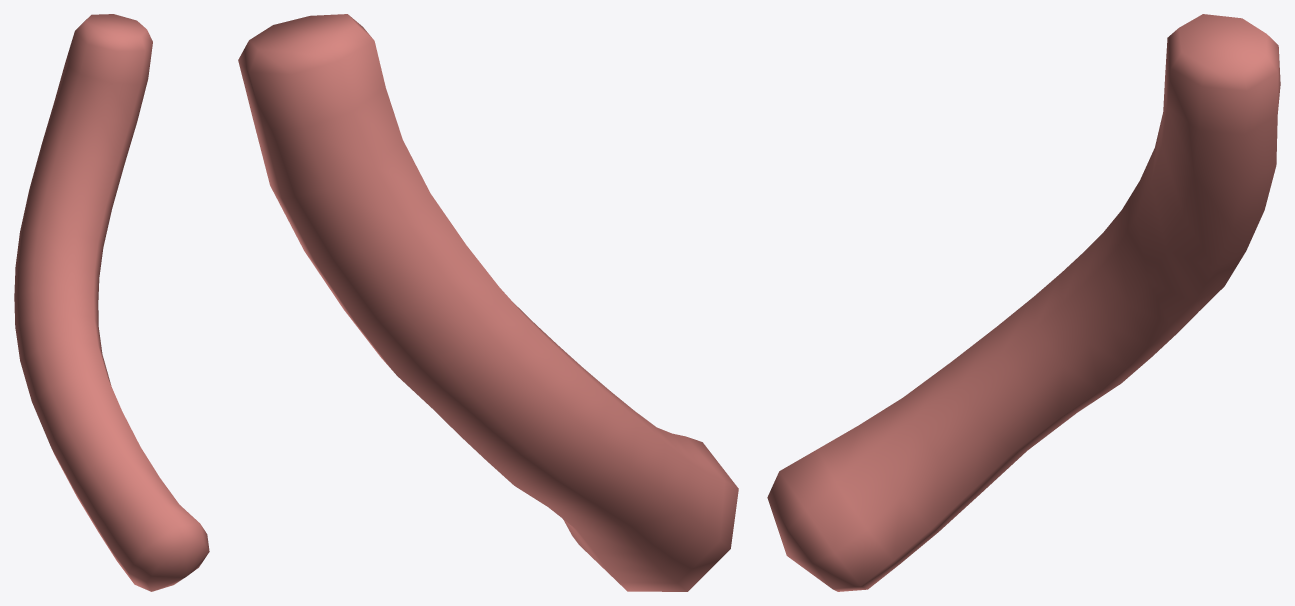
3 renders of one model, left to right at view 1: azimuth 30°, elevation 25°; view 2: azimuth 150°, elevation 25°; view 3: azimuth 270°, elevation 25°, orthographic. The views are drawn at different scales.
Visible parts, largest first — view 1: ZA_8414e64682893a86; view 2: ZA_8414e64682893a86; view 3: ZA_8414e64682893a86.
Boxes of the visible parts, bbox=[...] form: ZA_8414e64682893a86: bbox=[14, 14, 209, 591]; ZA_8414e64682893a86: bbox=[238, 14, 738, 591]; ZA_8414e64682893a86: bbox=[767, 14, 1280, 591].
Bounding box in the file's own units: 0.017 × 0.0396 × 0.03.
